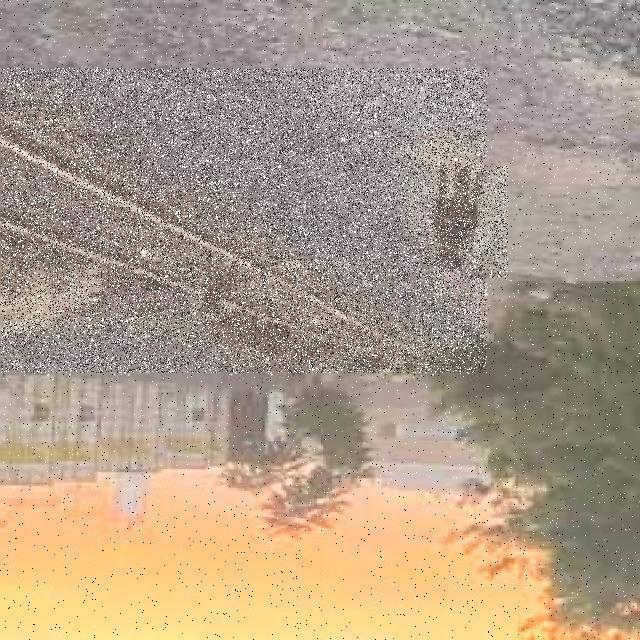rail: (2, 69, 488, 374)
